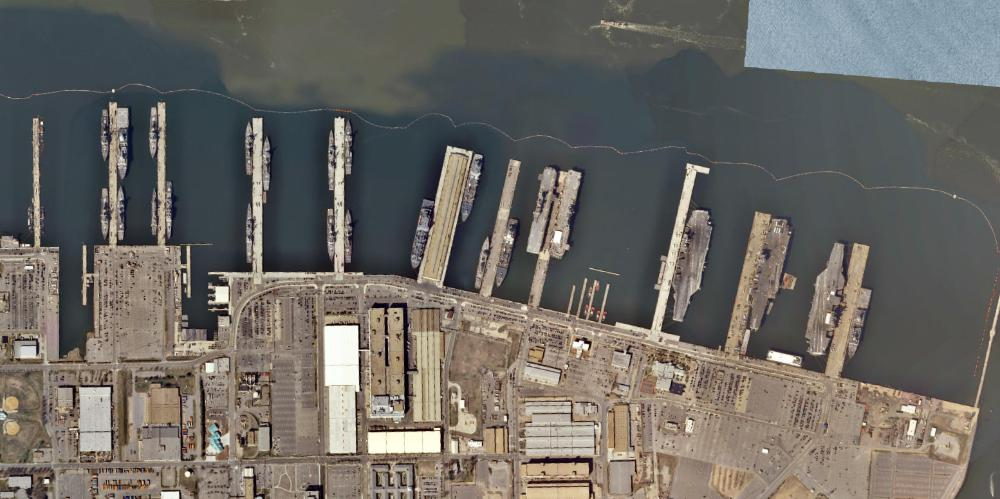amphiby: (113, 107, 133, 181)
cruiser: (325, 130, 337, 193), (245, 204, 254, 265), (166, 180, 173, 240)
fregate: (847, 283, 872, 363), (471, 236, 491, 290), (114, 184, 128, 244), (99, 187, 113, 243), (148, 105, 161, 159), (99, 106, 111, 162), (344, 121, 356, 176), (343, 207, 355, 262), (261, 136, 272, 193), (244, 120, 255, 175), (325, 210, 336, 259)
pha: (526, 166, 558, 262)
tender: (405, 194, 439, 276), (455, 151, 482, 225), (494, 217, 519, 287)
